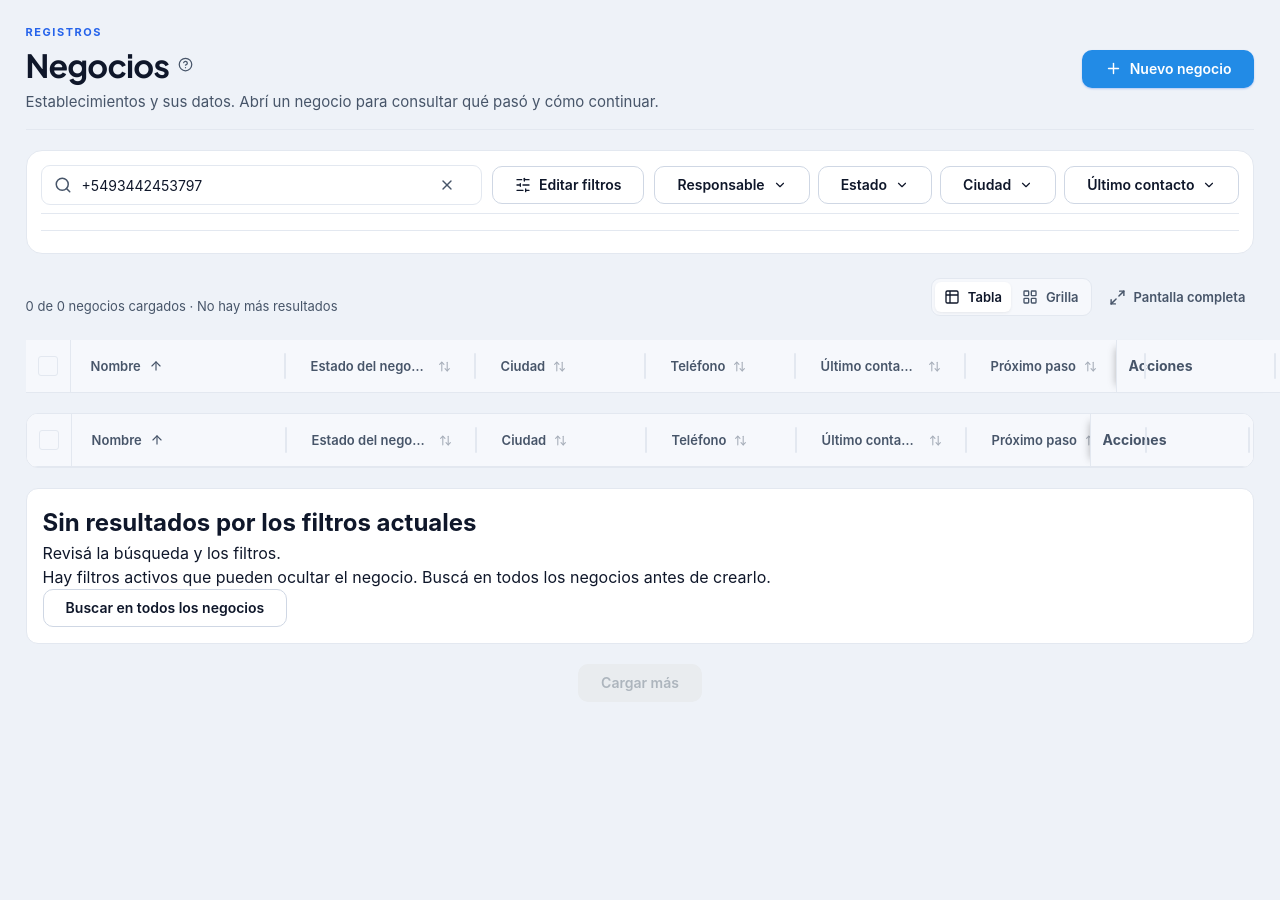
it: «Buscar o crear en el CRM» (spec 98 §17) › with active filters shows the hint instead of creating (the business may be hidden by them)
The image size is (1280, 900).
Expected: the text "Hay filtros activos que pueden ocultar el negocio" is shown, [43,567,771,587]
Expected: the button "Crear negocio con este teléfono" is not shown
Step 1. Click the button "Buscar en todos los negocios" → (165, 608), box [43,589,287,627]
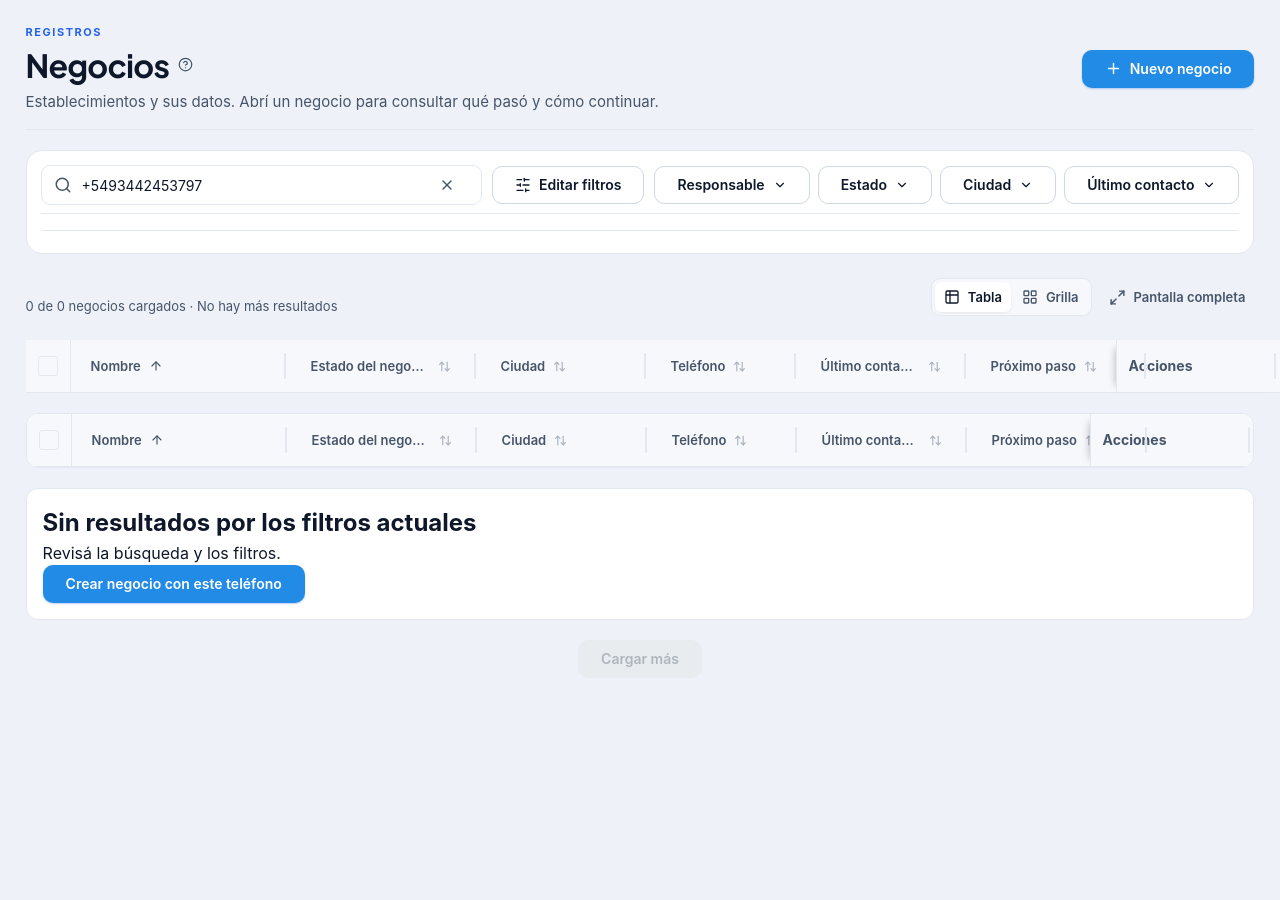
Now the button "Crear negocio con este teléfono" is shown, box [43,565,305,603]
